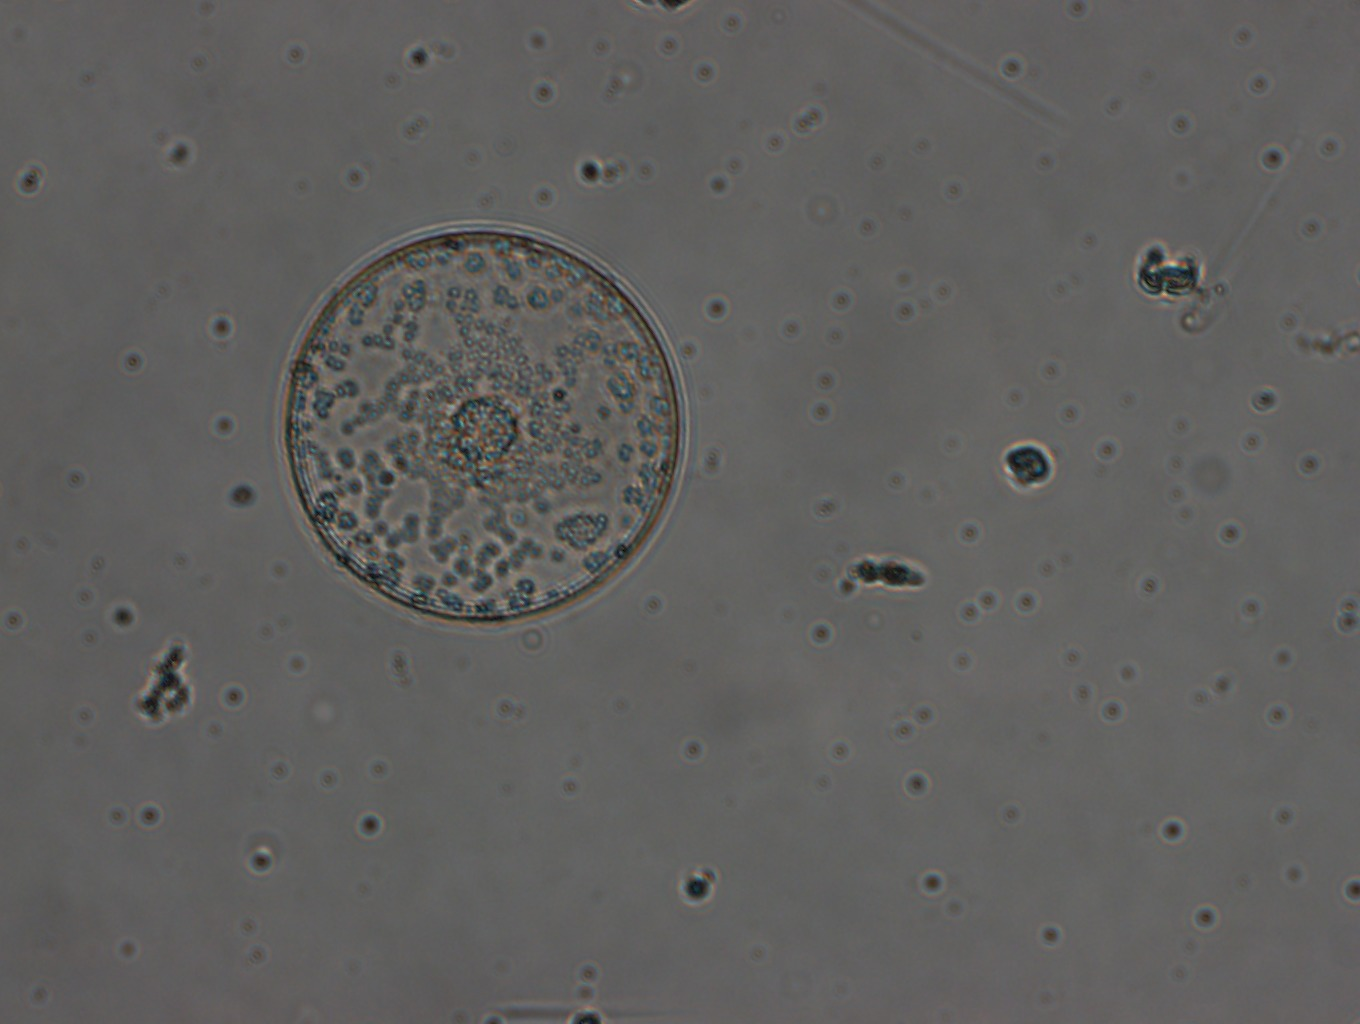coscinodiscus: (275, 216, 691, 634)
